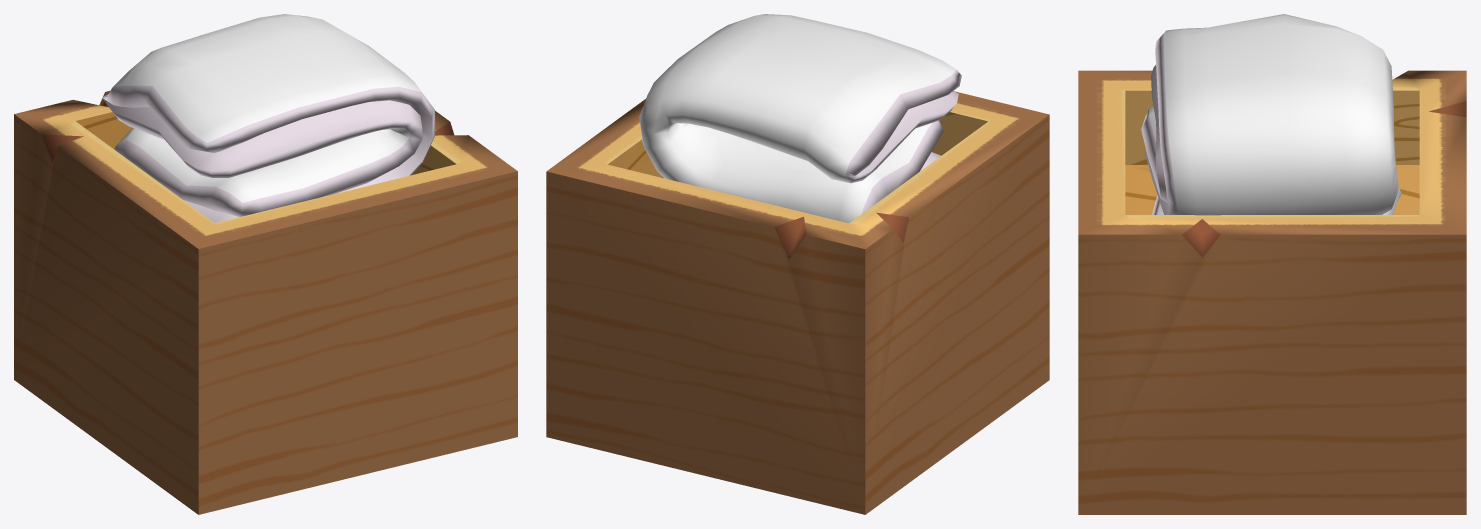
File: Box_Cloth.fbx
3 renders of one model, left to right at view 1: azimuth 30°, elevation 25°; view 2: azimuth 150°, elevation 25°; view 3: azimuth 270°, elevation 25°, orthographic. The views are drawn at different scales.
Visible parts, largest first — view 1: Box_Cloth; view 2: Box_Cloth; view 3: Box_Cloth.
Part boxes in pixels (x1,y1,x2,y2): Box_Cloth: [14, 14, 517, 514]; Box_Cloth: [546, 14, 1049, 514]; Box_Cloth: [1078, 14, 1466, 514].
Size of the model in its own units: 82.82 by 89.09 by 82.82.
Materials: 2 (2 with a texture image).
